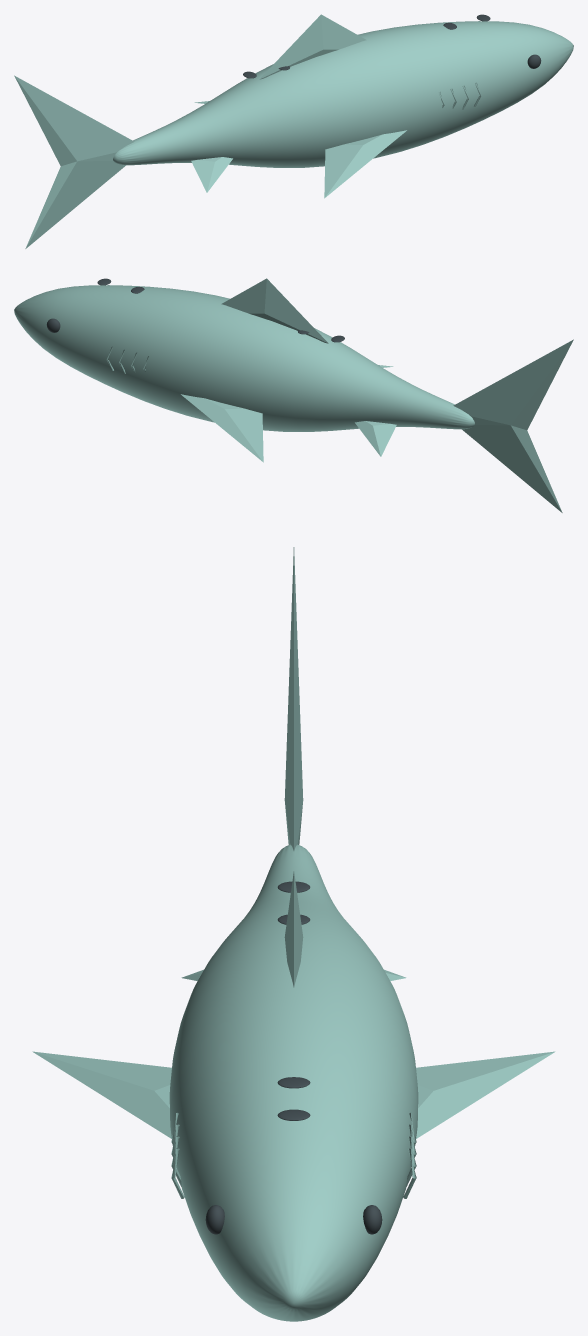
The picture shows the model from 3 angles, top to bottom: view 1: azimuth 30°, elevation 25°; view 2: azimuth 150°, elevation 25°; view 3: azimuth 270°, elevation 25°; orthographic projection. The views are drawn at different scales.
Visible parts, largest first — view 1: Body, Tail, Dorsal, Pectoral, Pelvic; view 2: Body, Tail, Dorsal, Pectoral.001, Pelvic.001; view 3: Body, Pectoral, Pectoral.001, Tail, Dorsal.
Boxes of the visible parts, x1,y1,x2,y2 form: Body: (113, 21, 573, 167); Tail: (14, 75, 134, 248); Dorsal: (259, 14, 366, 79); Pectoral: (324, 130, 406, 198); Pelvic: (191, 157, 232, 192); Body: (14, 285, 474, 431); Tail: (453, 339, 573, 512); Dorsal: (221, 278, 328, 343); Pectoral.001: (181, 394, 263, 462); Pelvic.001: (355, 421, 396, 456); Body: (169, 844, 418, 1321); Pectoral: (32, 1051, 171, 1138); Pectoral.001: (416, 1051, 555, 1138); Tail: (284, 547, 303, 850); Dorsal: (284, 871, 303, 987).
Bounding box in the file's own units: 252 × 76 × 102.
